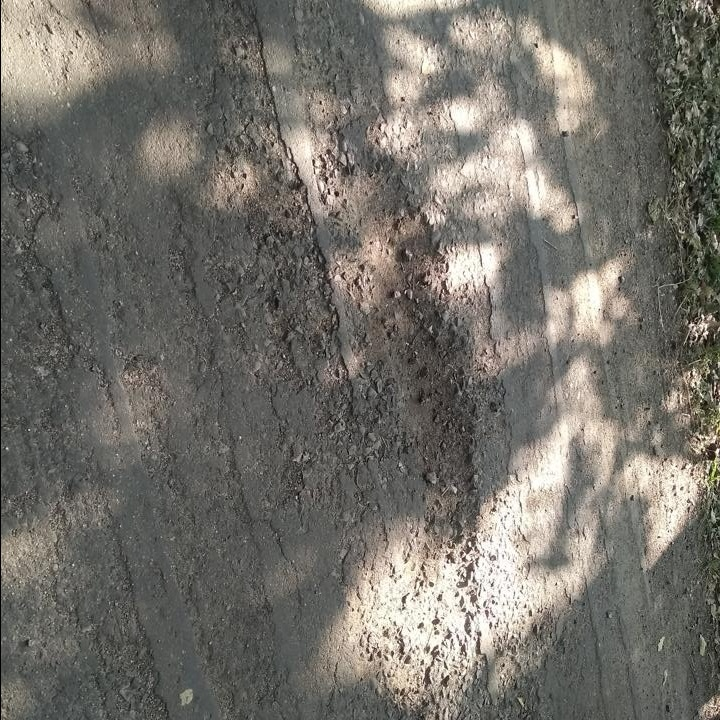pothole: (329, 155, 487, 574)
